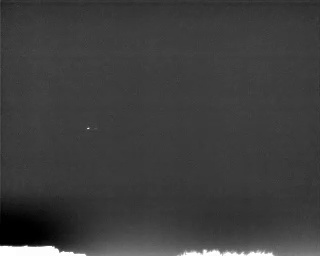BIRD: (85, 124, 92, 132)
